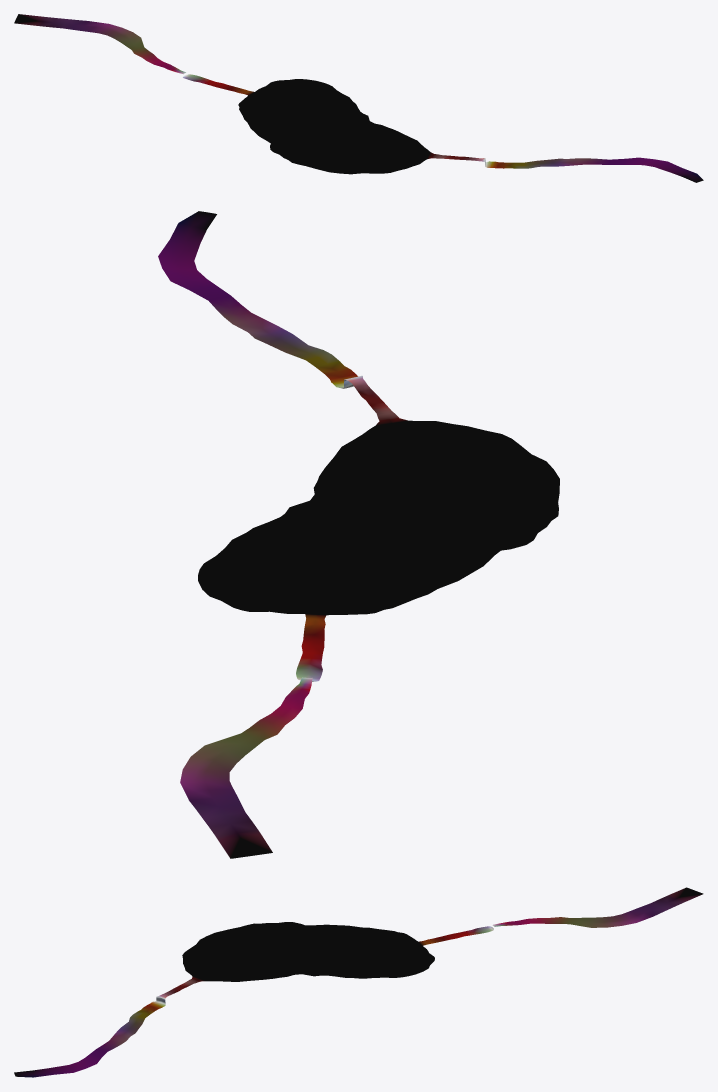
The picture shows the model from 3 angles, top to bottom: view 1: azimuth 30°, elevation 25°; view 2: azimuth 150°, elevation 25°; view 3: azimuth 270°, elevation 25°; orthographic projection. The views are drawn at different scales.
Parts seen in each view (by area): view 1: G:\FFXIV-MapTools\exports\x6f1\bg\ex5\01_xkt_x6\fld\x6f1\bgp; view 2: G:\FFXIV-MapTools\exports\x6f1\bg\ex5\01_xkt_x6\fld\x6f1\bgp; view 3: G:\FFXIV-MapTools\exports\x6f1\bg\ex5\01_xkt_x6\fld\x6f1\bgp.
Part boxes in pixels (x1=…): G:\FFXIV-MapTools\exports\x6f1\bg\ex5\01_xkt_x6\fld\x6f1\bgp: x1=14, y1=14, x2=703, y2=182; G:\FFXIV-MapTools\exports\x6f1\bg\ex5\01_xkt_x6\fld\x6f1\bgp: x1=158, y1=211, x2=559, y2=858; G:\FFXIV-MapTools\exports\x6f1\bg\ex5\01_xkt_x6\fld\x6f1\bgp: x1=14, y1=887, x2=703, y2=1077.
Bounding box in the file's own units: 928 × 16.39 × 1477.
